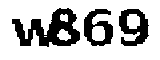6: (83, 6, 115, 49)
8: (52, 7, 81, 48)
9: (116, 7, 151, 50)
w: (9, 17, 54, 52)
